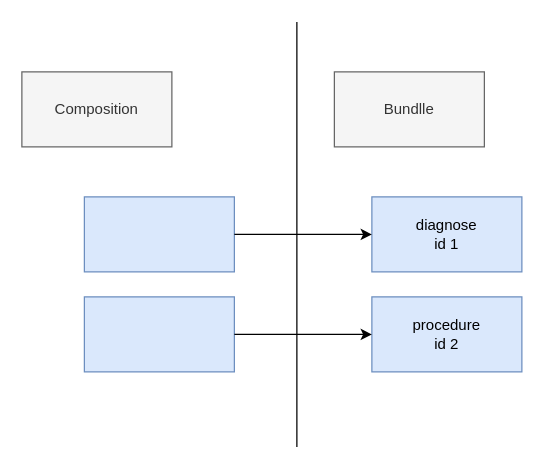
The diagram is 544 pixels wide and 470 high, and some of its shapes have lost their labels. Each missing label, with the box of its shape:
Entry: problem_diagnose: (83, 196, 234, 272)
Entry: procedure: (83, 296, 234, 372)
